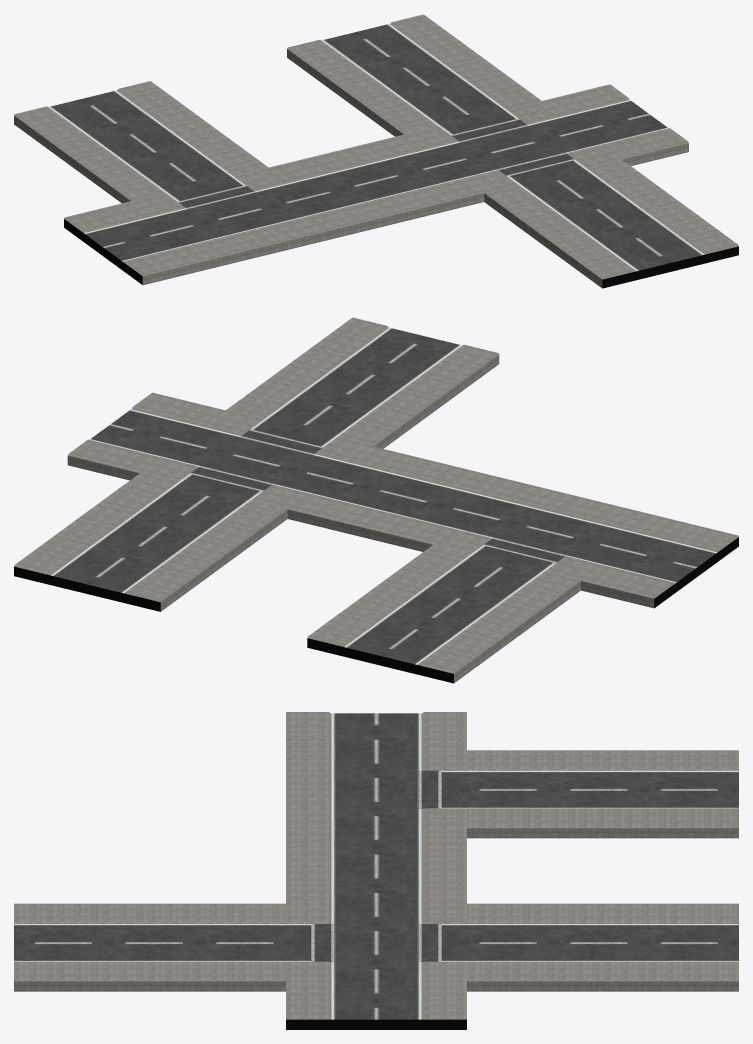
The model's file is doubleCrossRight_3.fbx.
The picture shows the model from 3 angles, top to bottom: view 1: azimuth 30°, elevation 25°; view 2: azimuth 150°, elevation 25°; view 3: azimuth 270°, elevation 25°; orthographic projection. The views are drawn at different scales.
Parts seen in each view (by area): view 1: materialH150, materialA150, materialB150, materialE150, materialC150, materialD150; view 2: materialH150, materialA150, materialB150, materialE150, materialC150, materialD150; view 3: materialH150, materialA150, materialC150, materialE150, materialB150, materialD150.
Boxes of the visible parts, box(x1,y1,x2,y2) form: materialH150: box(14, 14, 738, 287); materialA150: box(48, 24, 704, 271); materialB150: box(64, 219, 738, 288); materialE150: box(170, 113, 582, 201); materialC150: box(179, 119, 573, 207); materialD150: box(178, 118, 574, 208); materialH150: box(14, 317, 738, 682); materialA150: box(51, 327, 717, 664); materialB150: box(14, 537, 738, 683); materialE150: box(182, 423, 555, 568); materialC150: box(191, 430, 564, 561); materialD150: box(190, 429, 566, 562); materialH150: box(14, 712, 738, 1019); materialA150: box(14, 713, 738, 1019); materialC150: box(314, 770, 438, 962); materialE150: box(294, 770, 458, 961); materialB150: box(286, 1019, 466, 1029); materialD150: box(311, 770, 441, 962).
Size of the model in its own units: 102 by 1.8 by 102.
